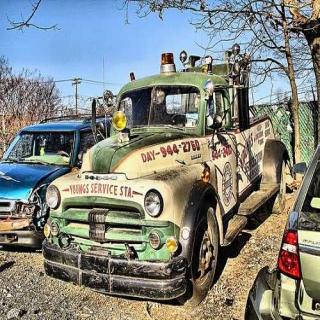Towing_truck: (40, 45, 290, 307)
